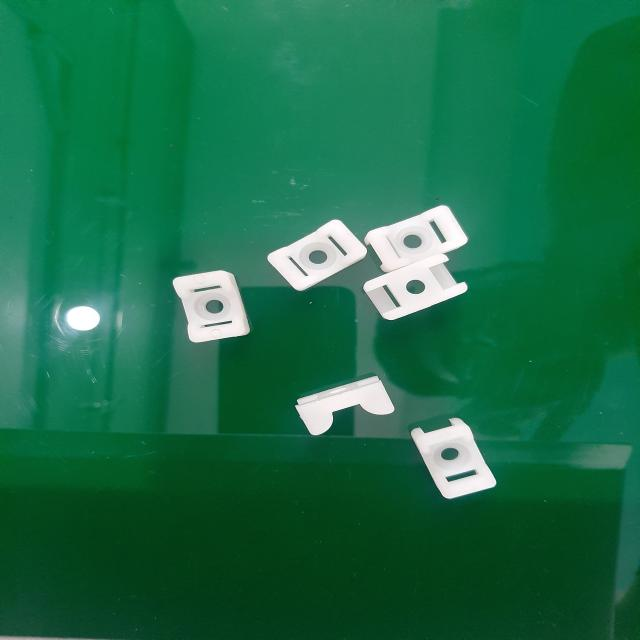mat dung: (268, 220, 367, 291), (365, 205, 468, 272), (412, 418, 497, 499), (172, 270, 250, 342)
mat sai1: (363, 254, 467, 320)
mat sai2: (295, 376, 395, 435)
